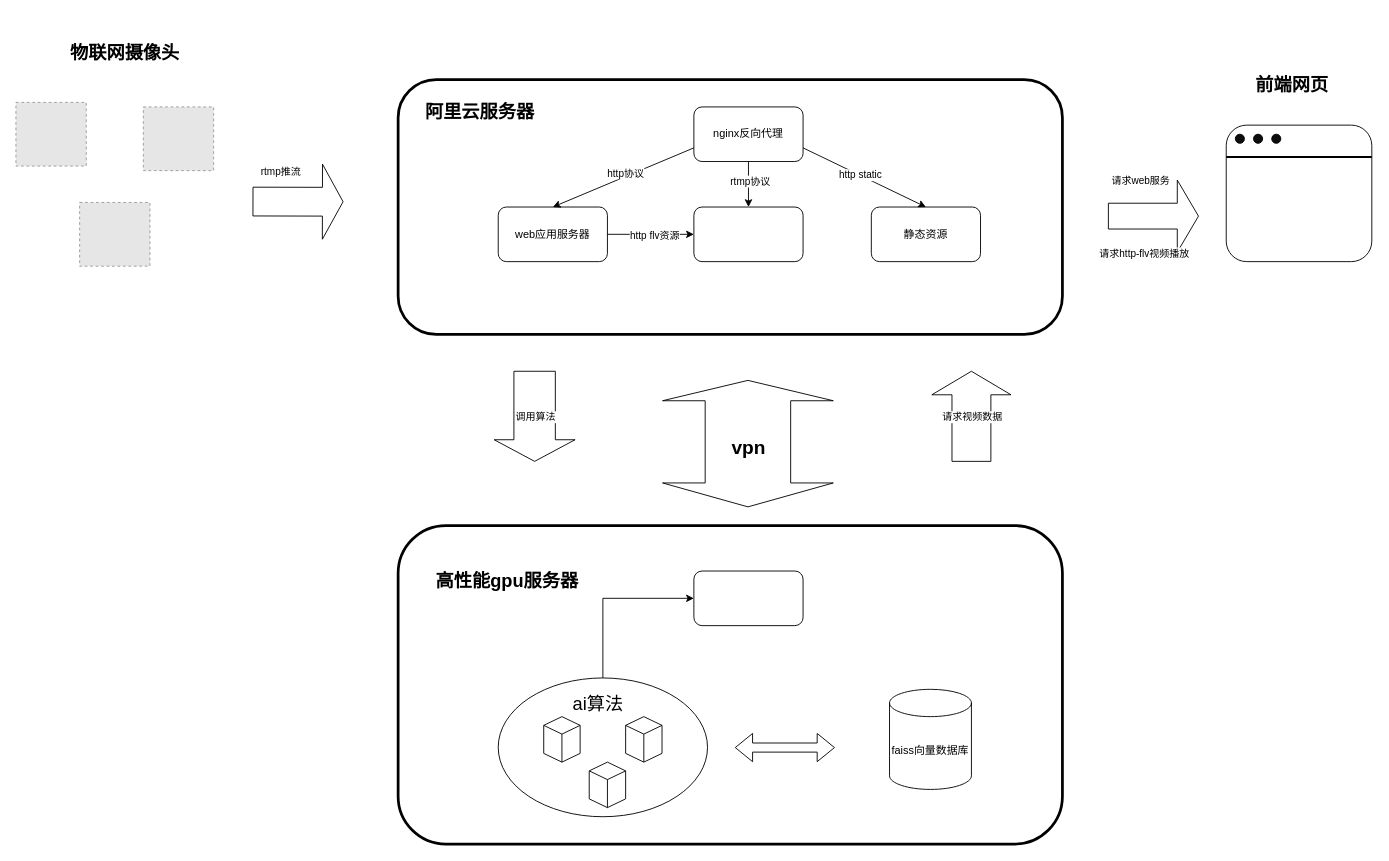
This 1389x861 diagram has some shape labels left out. Grey dashed boxes stand in for pictures. The shapes that lost their labels are listed below. From the top down, each one's centre as x and y in pixels, then its label:
At point (748, 234): "流媒体服务器".
At point (748, 598): "fastapi".
